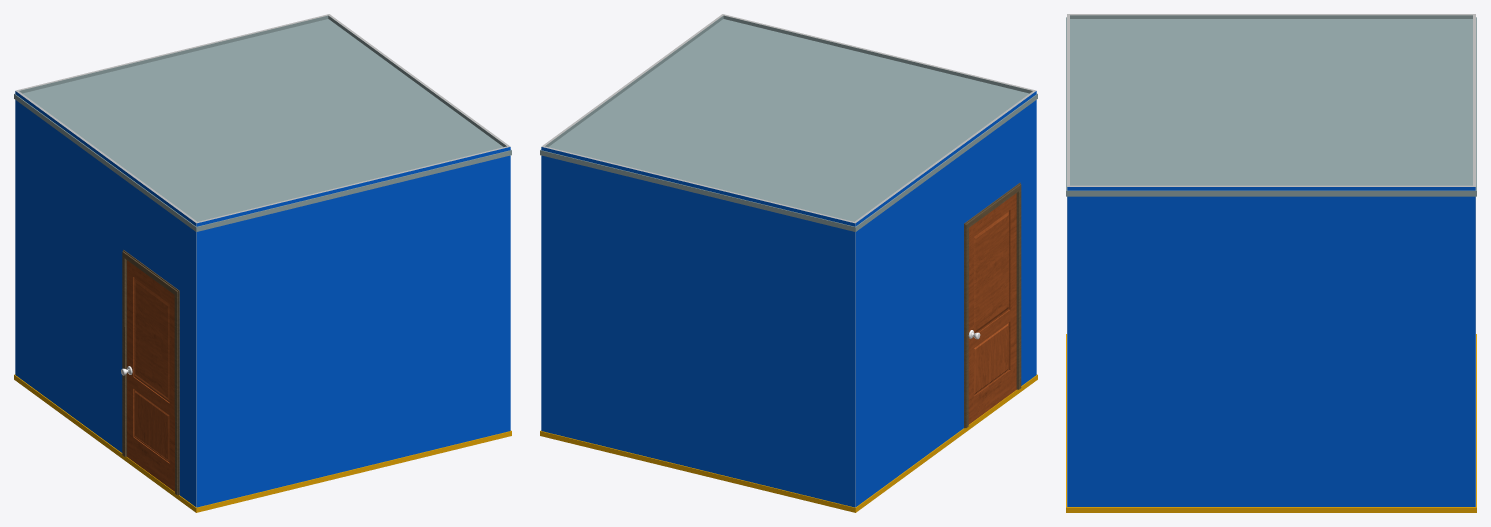
File: ProcTHOR-Train-131.glb
3 views of the same model, side by side, from view 1: azimuth 30°, elevation 25°; view 2: azimuth 150°, elevation 25°; view 3: azimuth 270°, elevation 25° (orthographic). The views are drawn at different scales.
Visible parts, largest first — view 1: WallInside#wall|exterior|0.00|3.36|3.36|3.36, Ceiling#room|2|c, WallInside#wall|exterior|3.36|0.00|3.36|3.36, Doorway_4, Floor#room|2|f, WallInside#wall|2|0.00|0.00|3.36|0.00, WallInside#wall|2|0.00|0.00|0.00|3.36; view 2: WallInside#wall|exterior|0.00|0.00|3.36|0.00, Ceiling#room|2|c, WallInside#wall|exterior|3.36|0.00|3.36|3.36, Doorway_4, Floor#room|2|f, WallInside#wall|2|0.00|3.36|3.36|3.36, WallInside#wall|2|0.00|0.00|0.00|3.36; view 3: WallInside#wall|exterior|0.00|0.00|0.00|3.36, Ceiling#room|2|c, Floor#room|2|f, WallInside#wall|2|3.36|0.00|3.36|3.36, WallInside#wall|2|0.00|0.00|0.00|3.36, WallInside#wall|exterior|0.00|0.00|3.36|0.00, WallInside#wall|exterior|0.00|3.36|3.36|3.36.
Boxes of the visible parts, x1,y1,x2,y2 form: WallInside#wall|exterior|0.00|3.36|3.36|3.36: (196,146,510,507); Ceiling#room|2|c: (14,19,511,231); WallInside#wall|exterior|3.36|0.00|3.36|3.36: (15,90,196,507); Doorway_4: (121,250,179,495); Floor#room|2|f: (14,374,511,512); WallInside#wall|2|0.00|0.00|3.36|0.00: (16,14,329,93); WallInside#wall|2|0.00|0.00|0.00|3.36: (328,14,508,146); WallInside#wall|exterior|0.00|0.00|3.36|0.00: (541,146,855,507); Ceiling#room|2|c: (540,19,1037,231); WallInside#wall|exterior|3.36|0.00|3.36|3.36: (855,91,1036,507); Doorway_4: (964,182,1021,428); Floor#room|2|f: (540,374,1037,512); WallInside#wall|2|0.00|3.36|3.36|3.36: (722,14,1035,93); WallInside#wall|2|0.00|0.00|0.00|3.36: (543,14,724,146); WallInside#wall|exterior|0.00|0.00|0.00|3.36: (1067,186,1475,506); Ceiling#room|2|c: (1066,17,1476,196); Floor#room|2|f: (1066,334,1476,512); WallInside#wall|2|3.36|0.00|3.36|3.36: (1067,14,1474,18); WallInside#wall|2|0.00|0.00|0.00|3.36: (1067,185,1475,186); WallInside#wall|exterior|0.00|0.00|3.36|0.00: (1474,14,1475,506); WallInside#wall|exterior|0.00|3.36|3.36|3.36: (1067,14,1068,506).
Bounding box in the file's own units: 3.48 × 2.97 × 3.4.
Materials: 71 (22 with a texture image).
